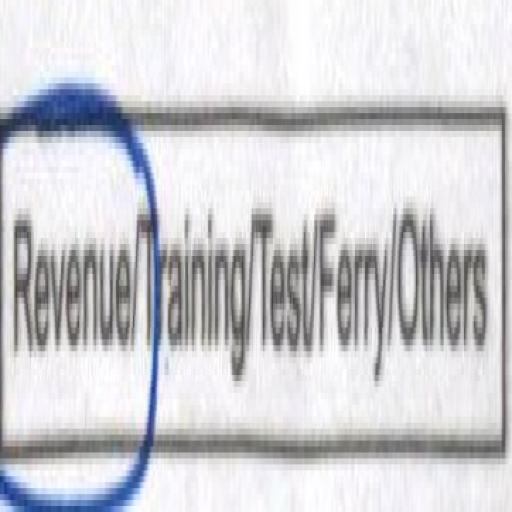check: (0, 29, 137, 512)
